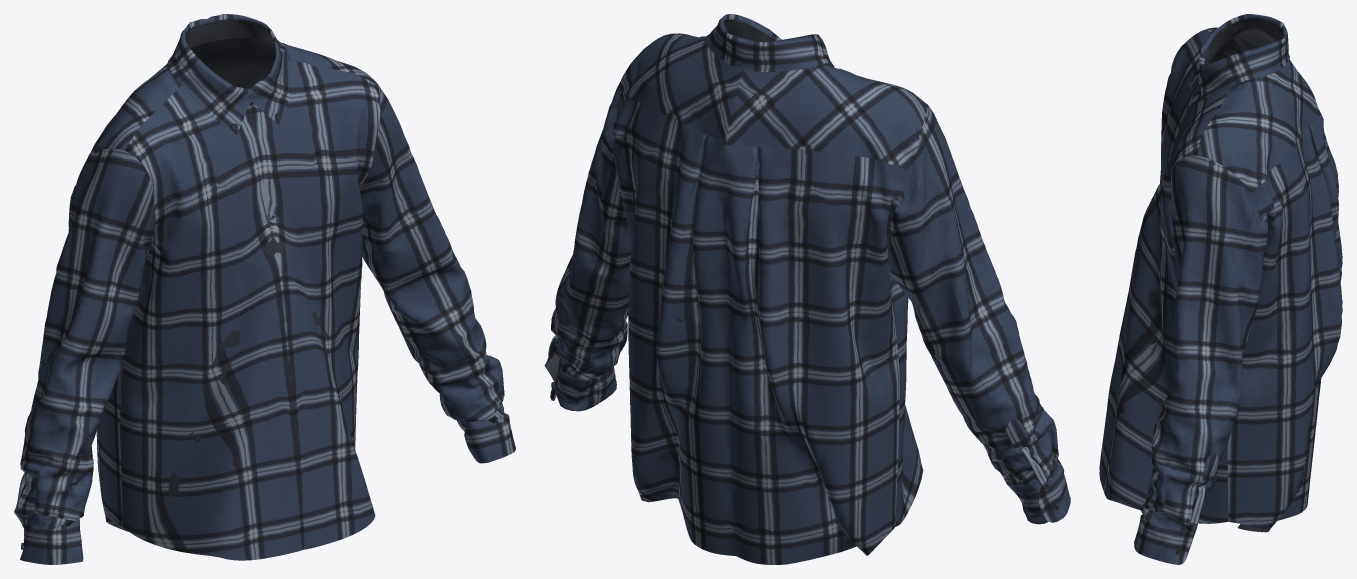
The model's file is flannel.glb.
3 views of the same model, side by side, from view 1: azimuth 30°, elevation 25°; view 2: azimuth 150°, elevation 25°; view 3: azimuth 270°, elevation 25° (orthographic). The views are drawn at different scales.
Parts seen in each view (by area): view 1: flannel; view 2: flannel; view 3: flannel.
Boxes of the visible parts, left/top/right/bottom form: flannel: left=14, top=14, right=515, bottom=564; flannel: left=544, top=14, right=1070, bottom=564; flannel: left=1099, top=14, right=1342, bottom=564.
Size of the model in its own units: 0.8317 by 0.7915 by 0.3754.
14 materials, 10 textured.
